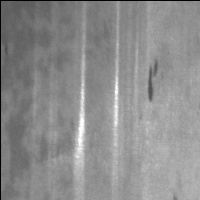inclusion: (144, 58, 159, 104)
scratches: (71, 6, 89, 192), (107, 1, 122, 152)
